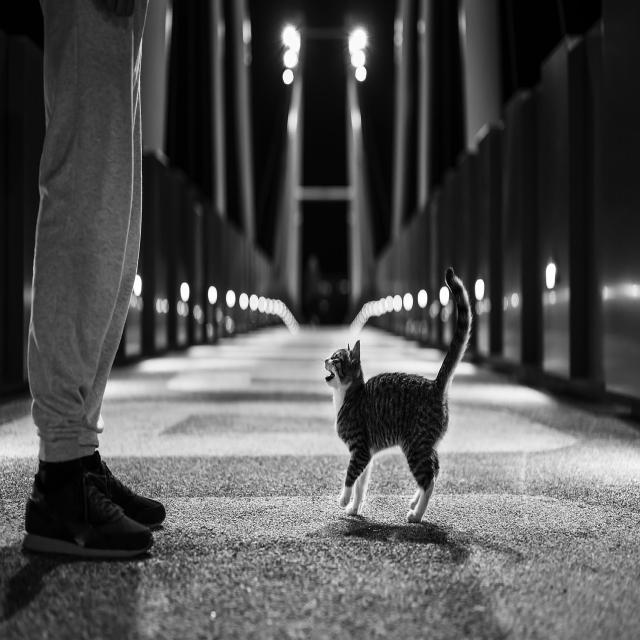cat: (322, 268, 472, 520)
